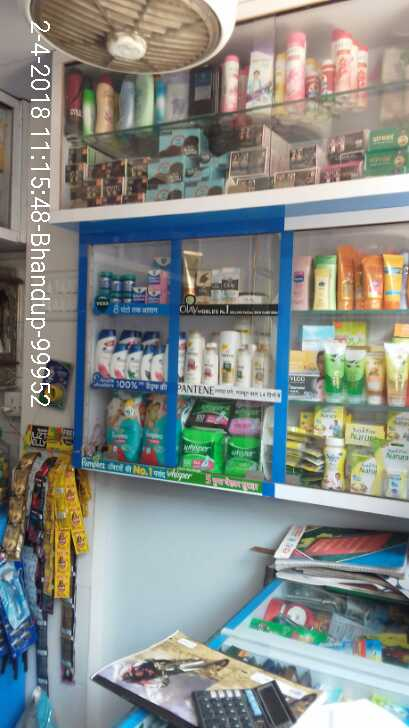vicks: (97, 255, 171, 302)
